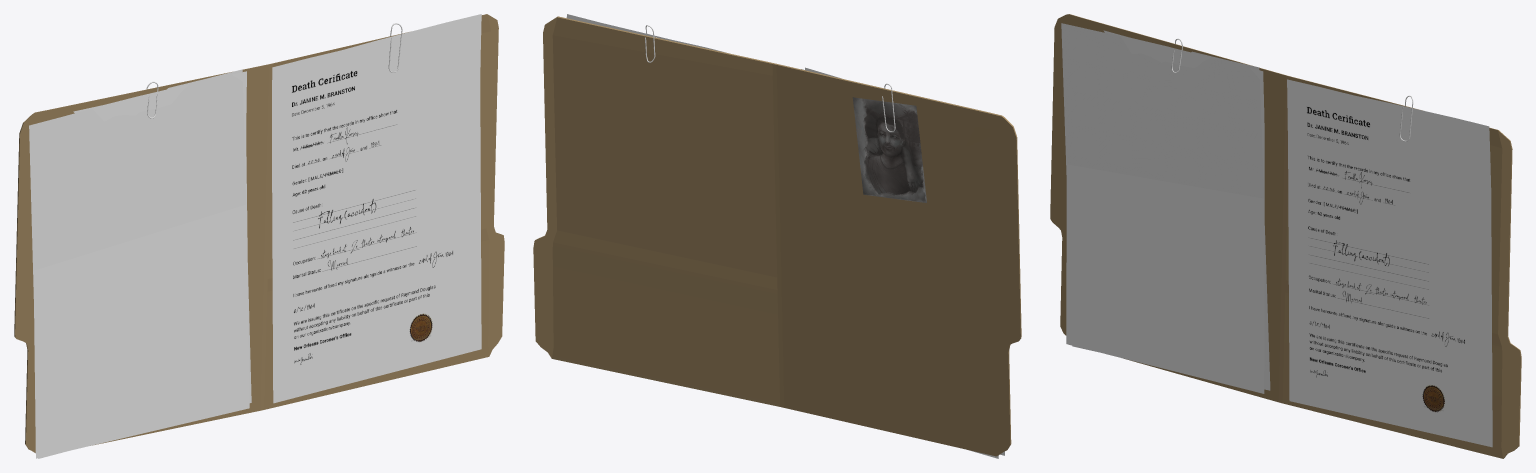
The model's file is open_folder.glb.
3 views of the same model, side by side, from view 1: azimuth 30°, elevation 25°; view 2: azimuth 150°, elevation 25°; view 3: azimuth 330°, elevation 25° (orthographic). The views are drawn at different scales.
Parts seen in each view (by area): view 1: open_folder; view 2: open_folder; view 3: open_folder.
Boxes of the visible parts, bbox=[...] form: open_folder: bbox=[14, 14, 504, 458]; open_folder: bbox=[533, 14, 1021, 458]; open_folder: bbox=[1050, 14, 1521, 458].
Size of the model in its own units: 0.6741 by 0.4704 by 0.0182.
5 materials, 2 textured.
